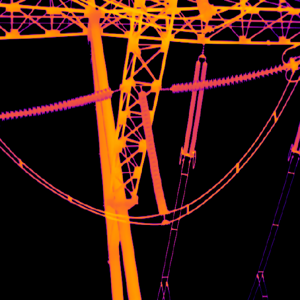insulator: (136, 87, 168, 213), (0, 83, 113, 118), (169, 64, 291, 93), (181, 60, 207, 156)
